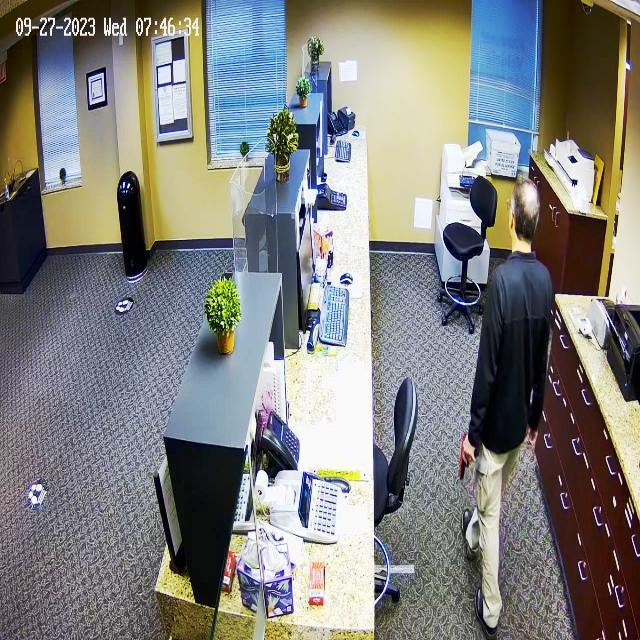Gun: (451, 431, 483, 487)
